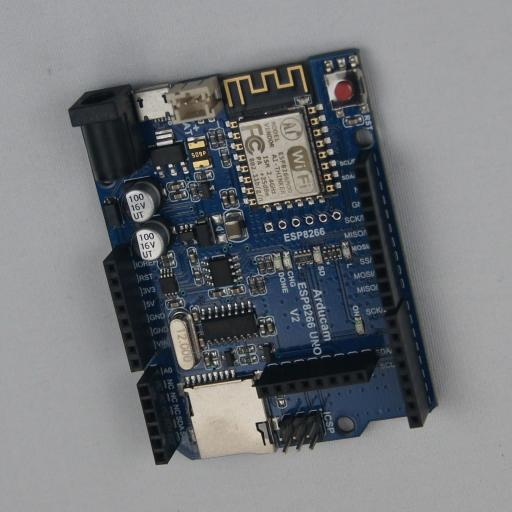Arduino Uno Camera Shield: (68, 48, 439, 465)
